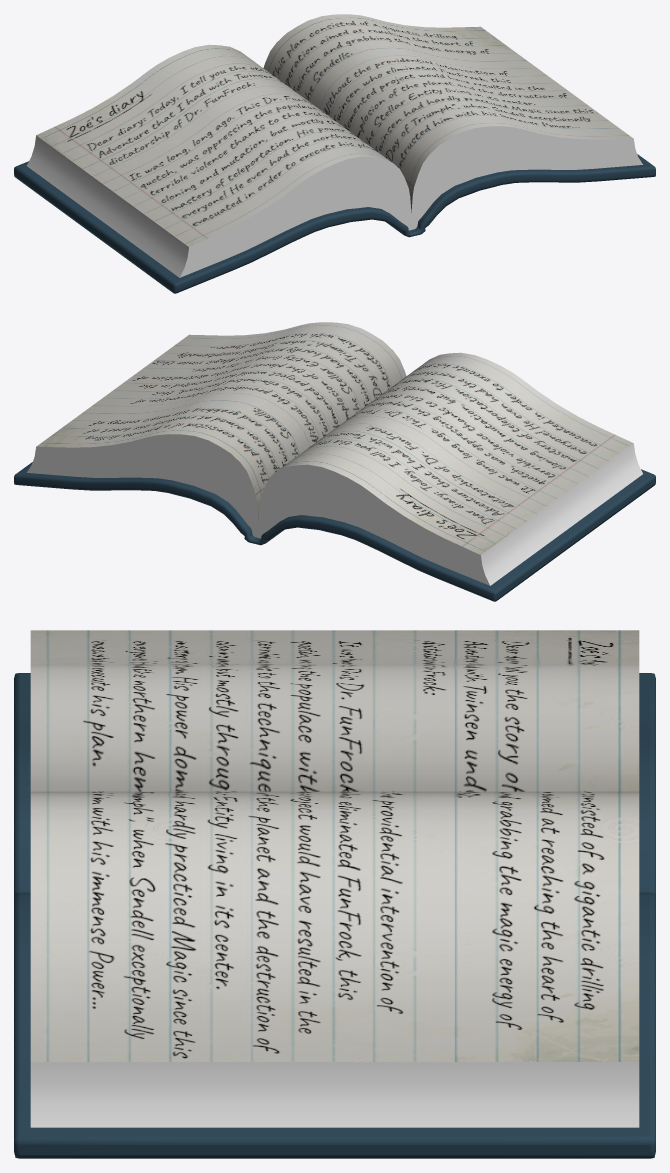
File: CI_104_open_book.glb
The picture shows the model from 3 angles, top to bottom: view 1: azimuth 30°, elevation 25°; view 2: azimuth 150°, elevation 25°; view 3: azimuth 270°, elevation 25°; orthographic projection. The views are drawn at different scales.
Visible parts, largest first — view 1: pages, cover; view 2: pages, cover; view 3: pages, cover.
Boxes of the visible parts, <box> form: pages: <box>27,14,642,277</box>; cover: <box>14,154,655,293</box>; pages: <box>27,322,642,585</box>; cover: <box>14,462,655,601</box>; pages: <box>30,630,639,1127</box>; cover: <box>14,673,655,1158</box>.
Bounding box in the file's own units: 0.9708 × 0.1725 × 0.5627.
3 materials, 1 textured.
